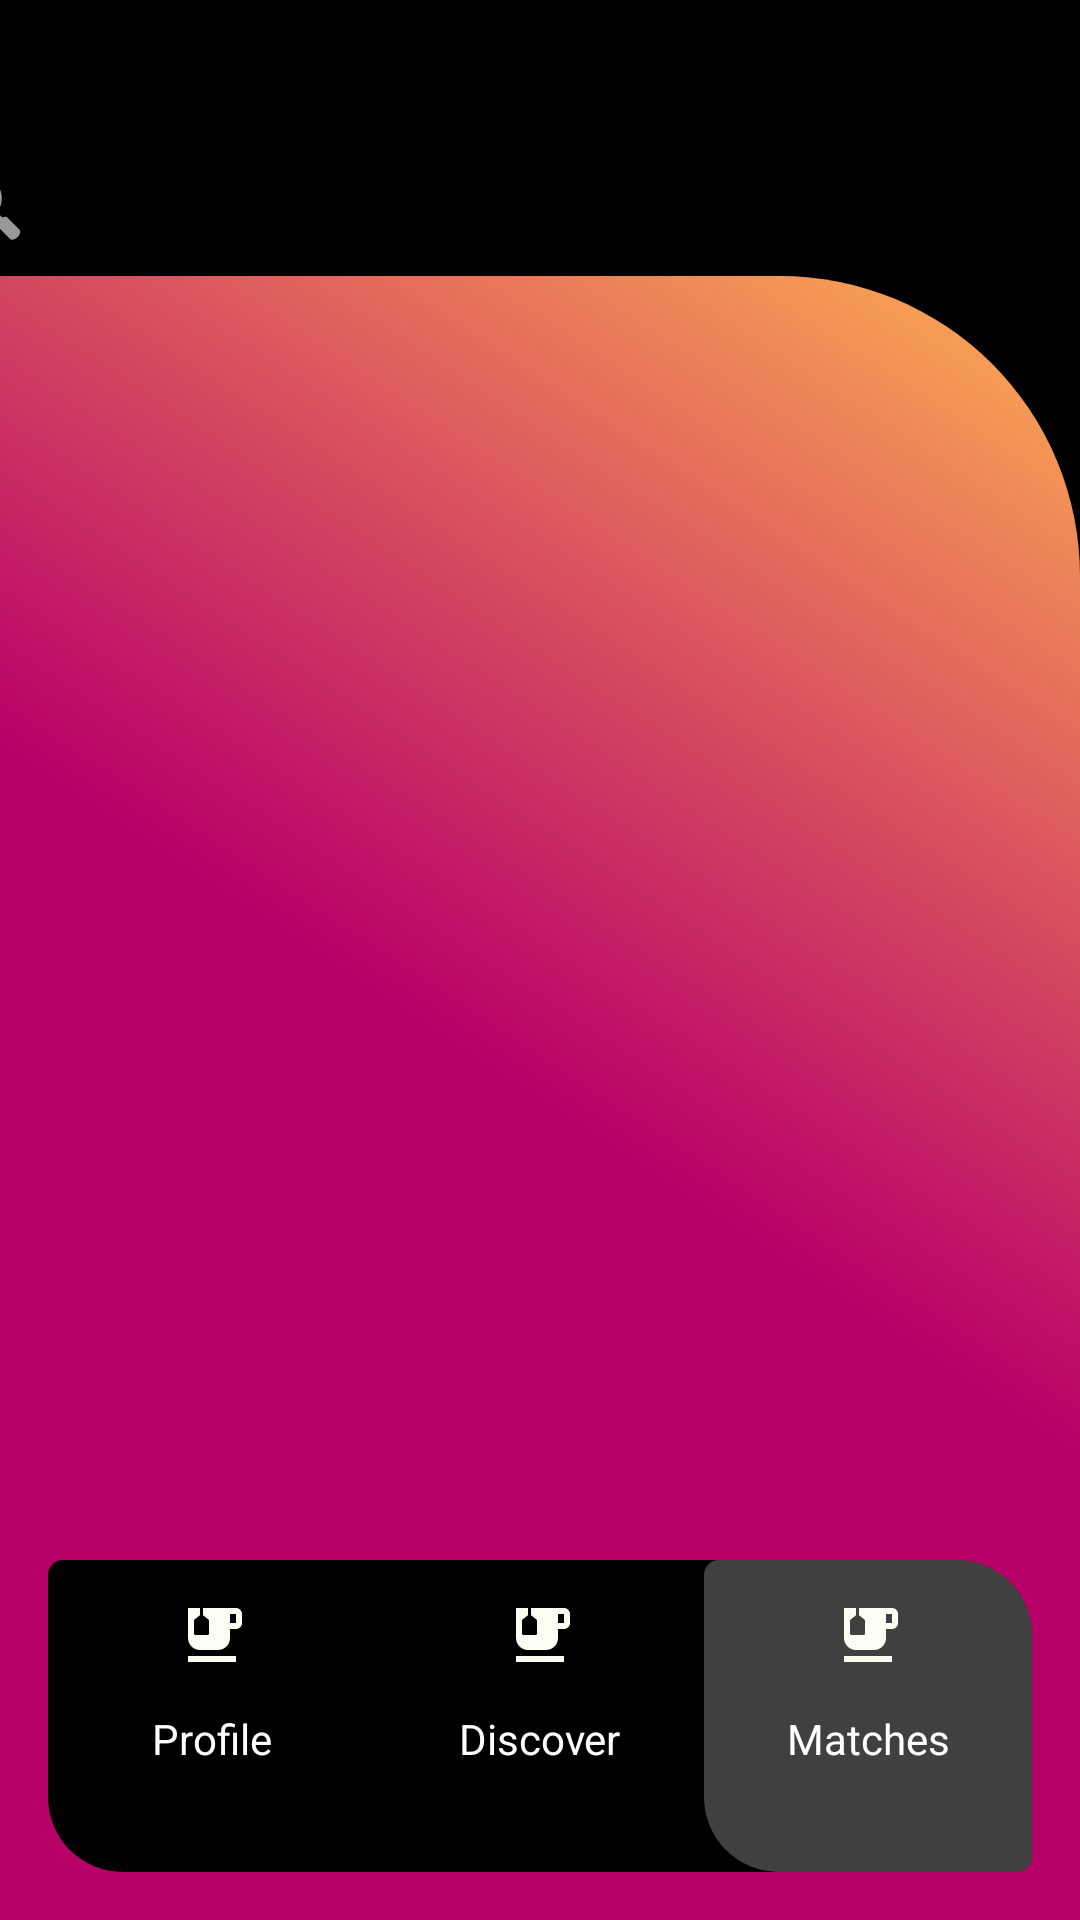

Named icons in this screenshot (1080w x 1920h) and their bounding boxes, box(x1, y1, x2, y2):
emoji food beverage: box(188, 1608, 242, 1662), box(516, 1608, 570, 1662), box(844, 1608, 898, 1662)
